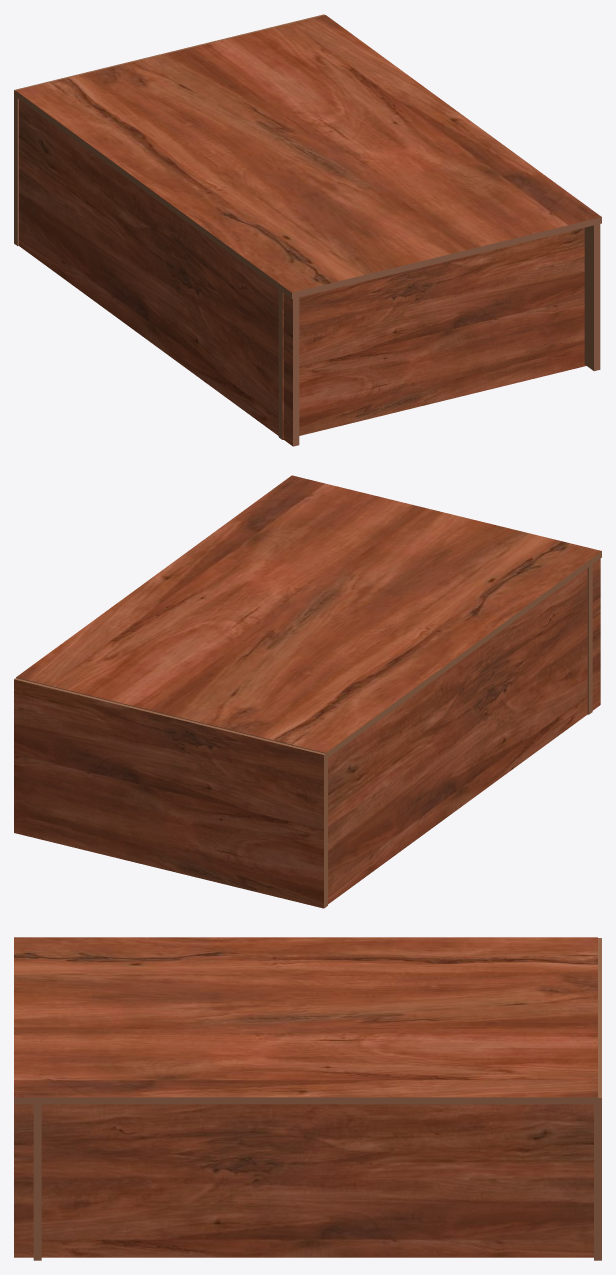
File: kleiderschrank.fbx
3 renders of one model, top to bottom at view 1: azimuth 30°, elevation 25°; view 2: azimuth 150°, elevation 25°; view 3: azimuth 270°, elevation 25°, orthographic. The views are drawn at different scales.
Visible parts, largest first — view 1: Cube.001; view 2: Cube.001; view 3: Cube.001.
Part boxes in pixels (box(x1,y1,x2,y2)): Cube.001: box(14, 14, 601, 446); Cube.001: box(14, 475, 601, 908); Cube.001: box(14, 937, 601, 1260).
Size of the model in its own units: 2.4 by 1.2 by 3.72.
1 material, 1 textured.
